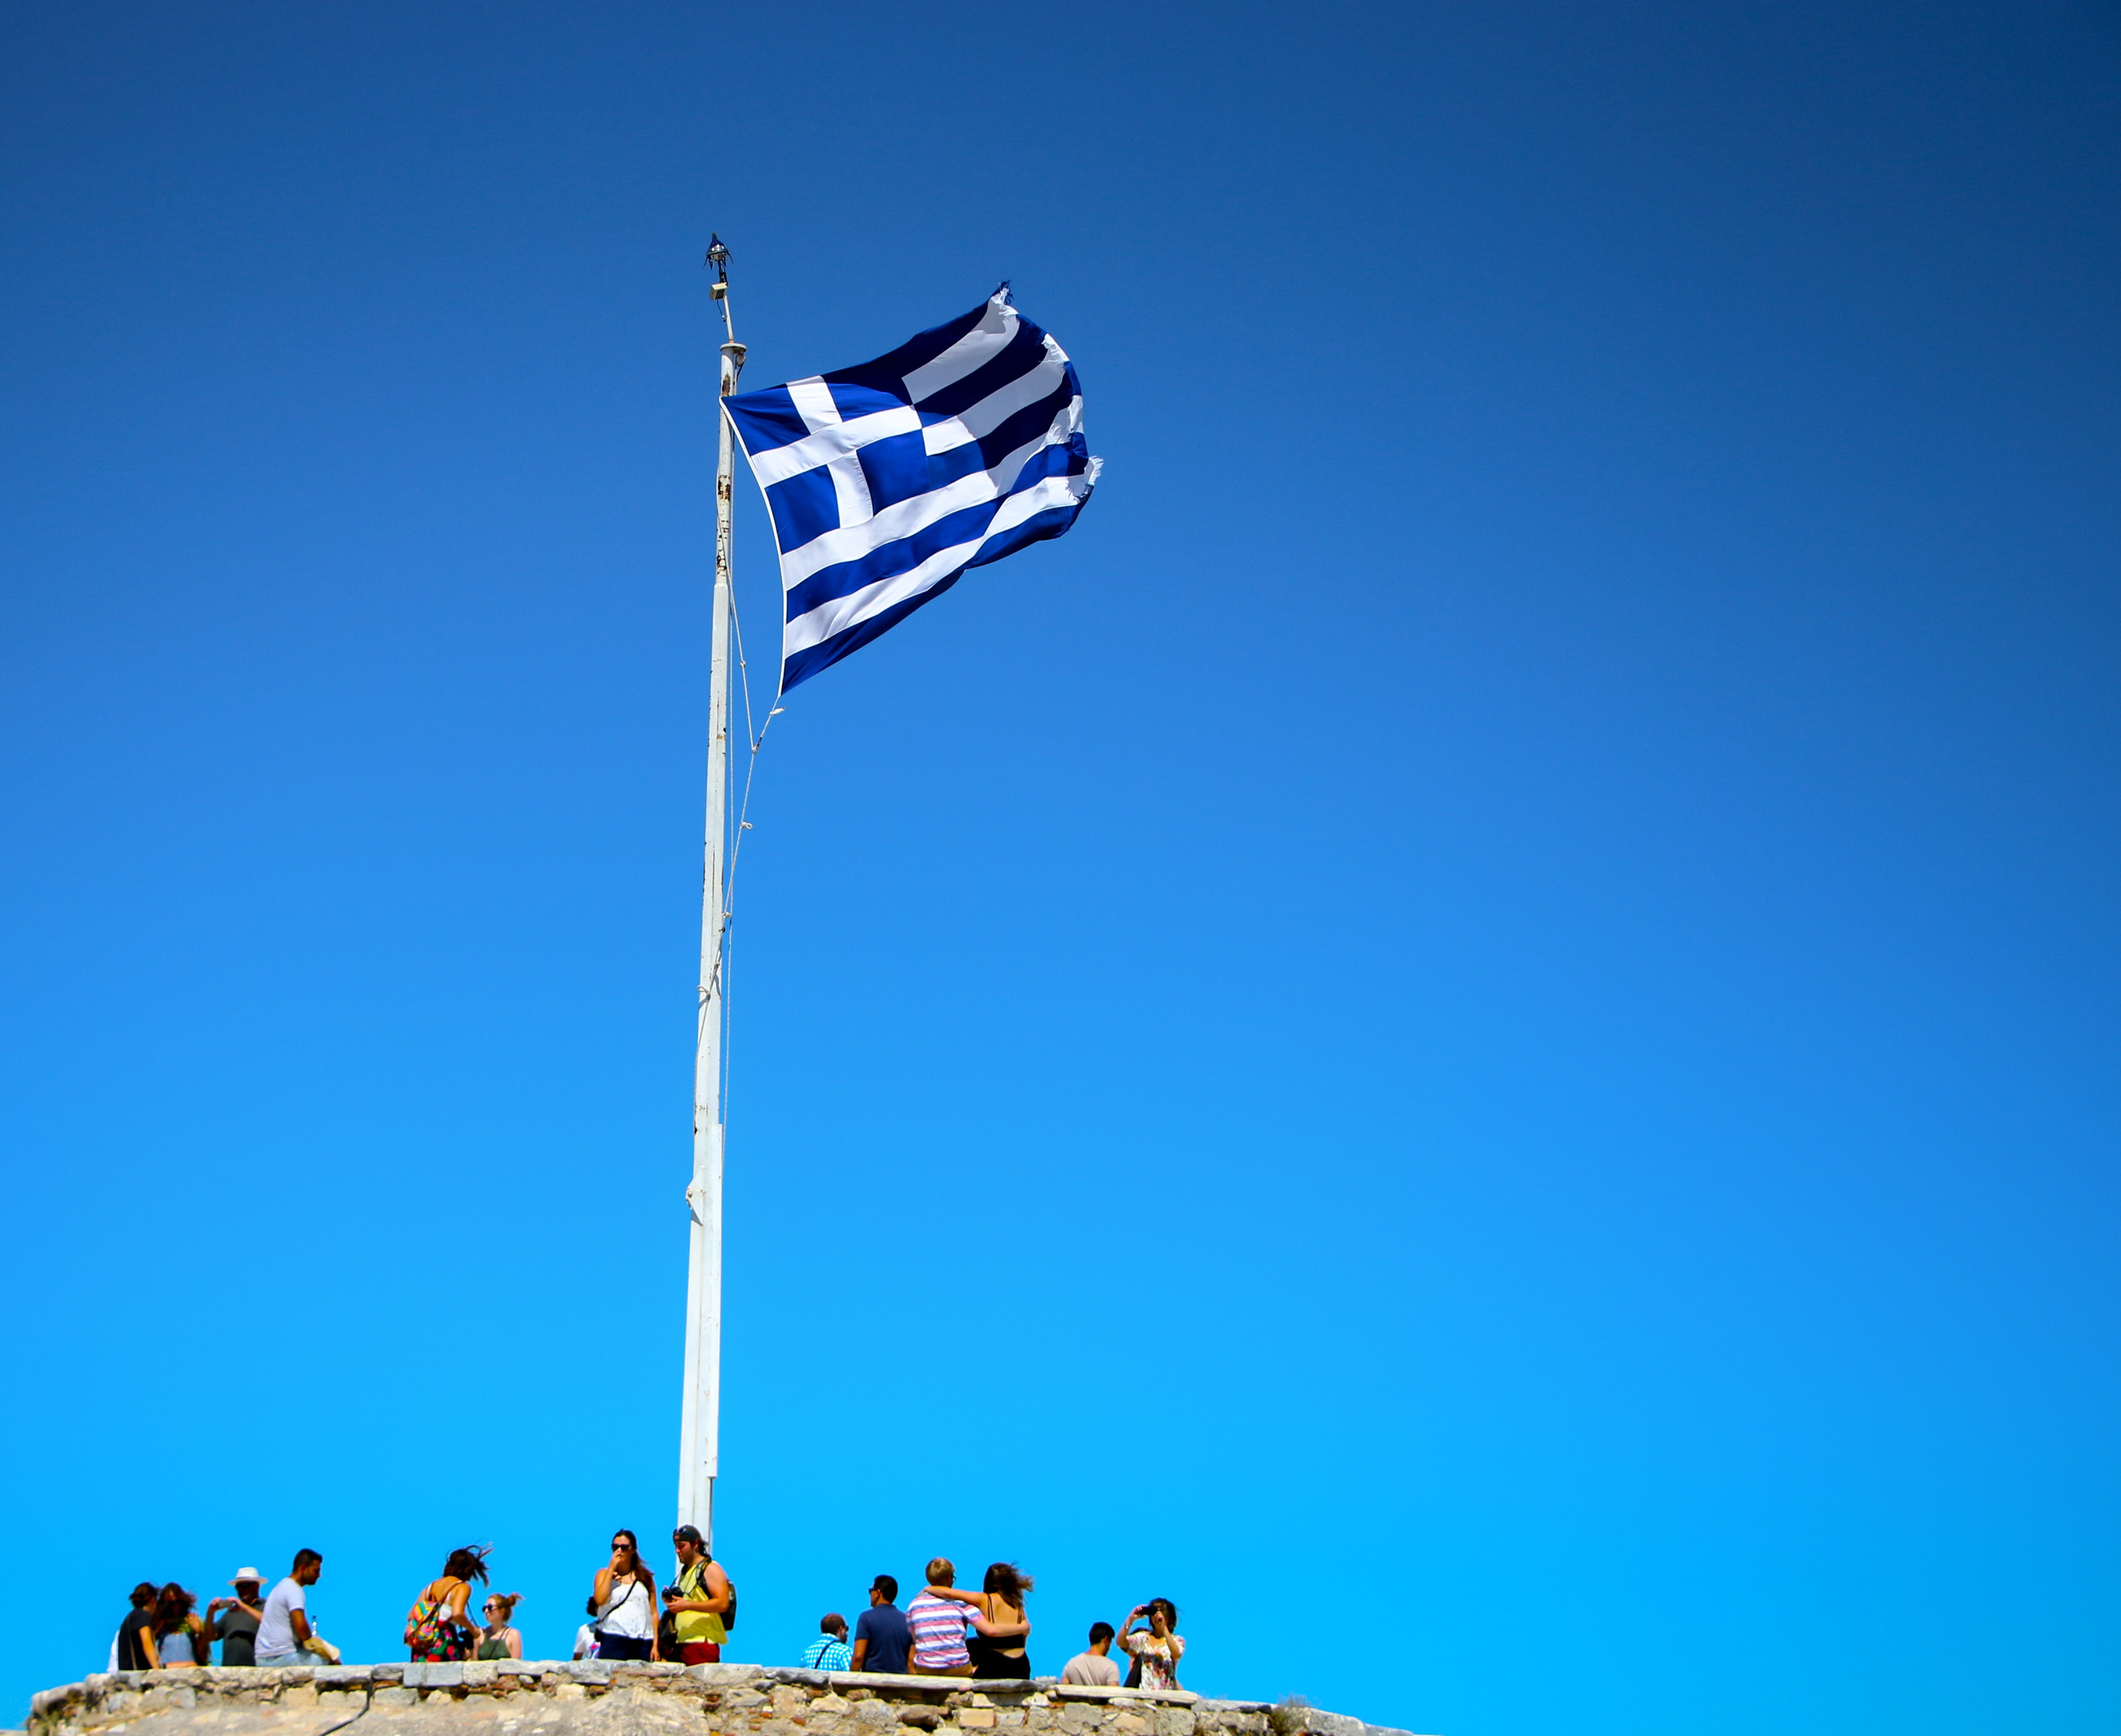Flag: (710, 280, 1117, 704)
